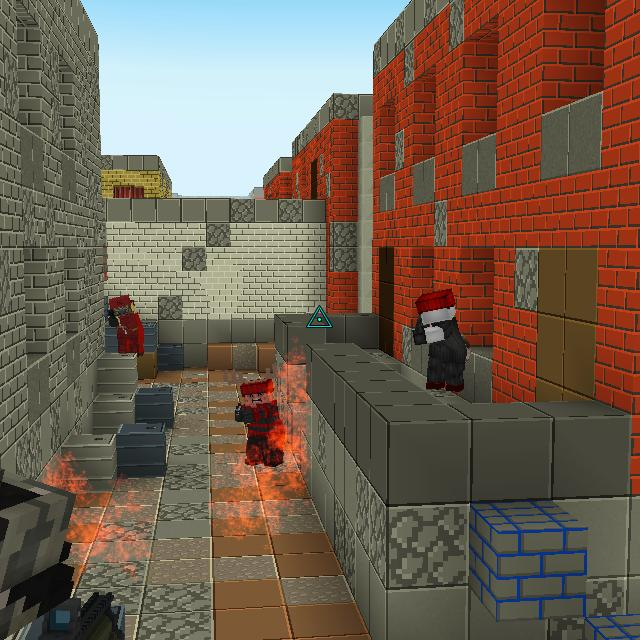enemy: (222, 362, 288, 468), (411, 286, 470, 394), (108, 293, 146, 357)
